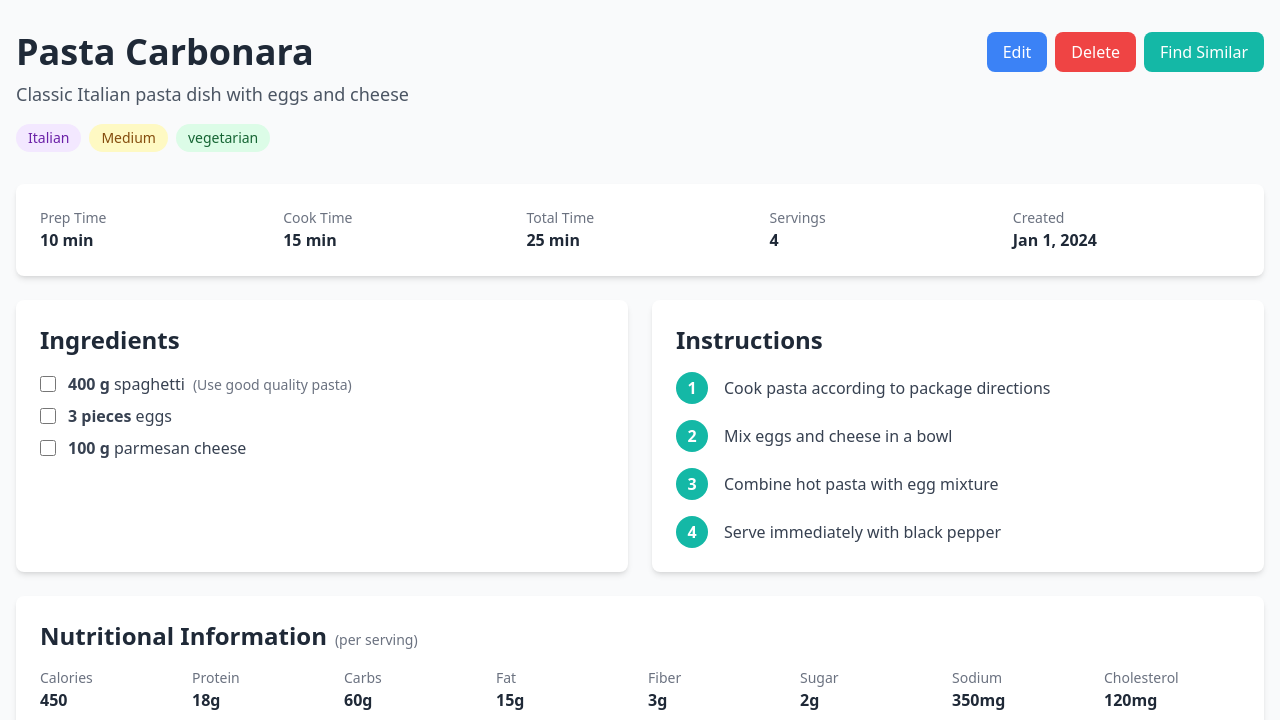
RecipeDetailPage › Delete Functionality › should show confirmation modal when delete button clicked
Expected: the heading "Pasta Carbonara" is shown, [16,27,314,76]
Click the button "Delete". click: (1096, 52)
box: [1055,32,1136,72]
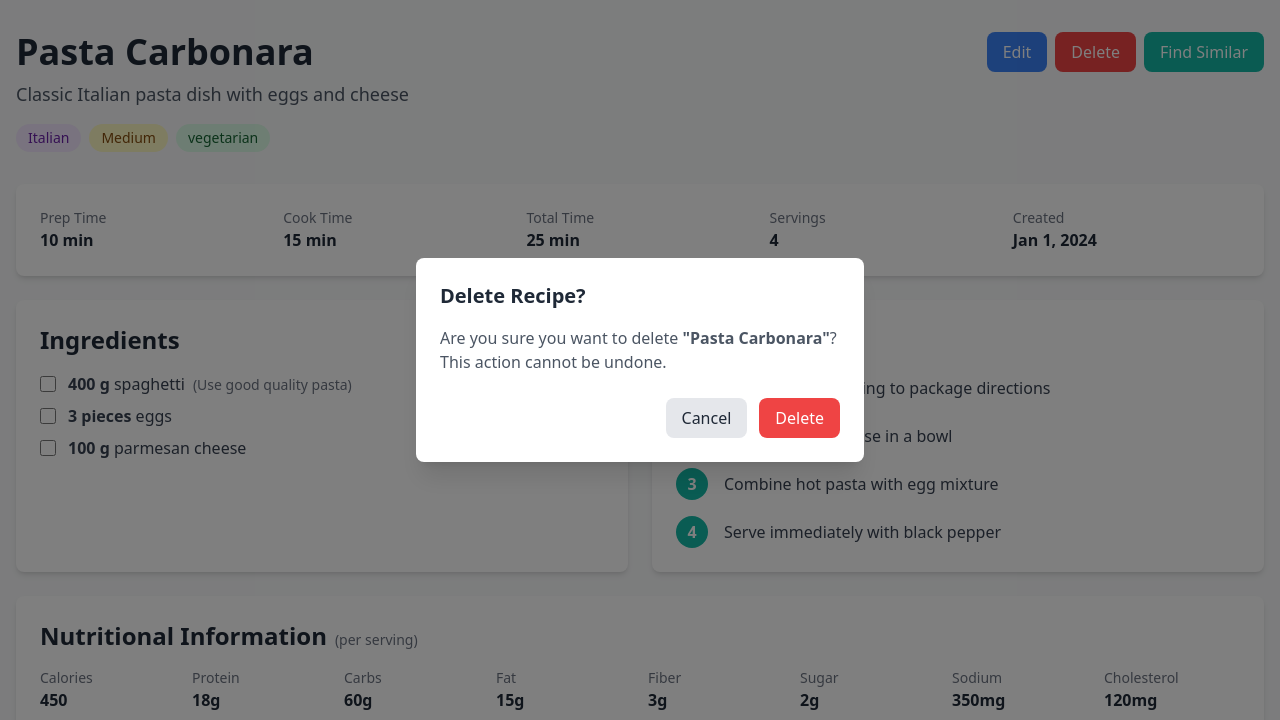
Expected: the heading "Delete Recipe?" is shown, [440,282,586,309]
Expected: the text "Are you sure you want to delete" is shown, [440,327,682,349]
